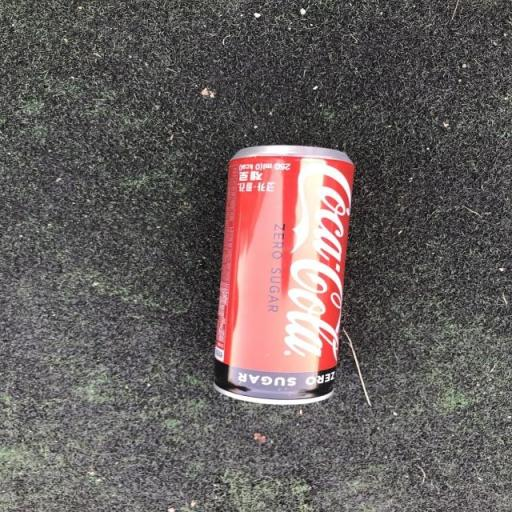metal: (182, 125, 378, 422)
